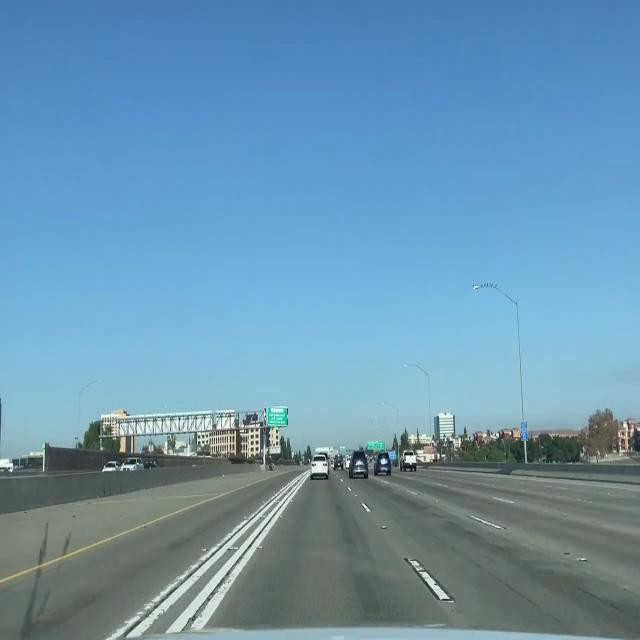street-signs: (266, 407, 288, 426), (366, 440, 378, 451), (379, 440, 384, 450)
